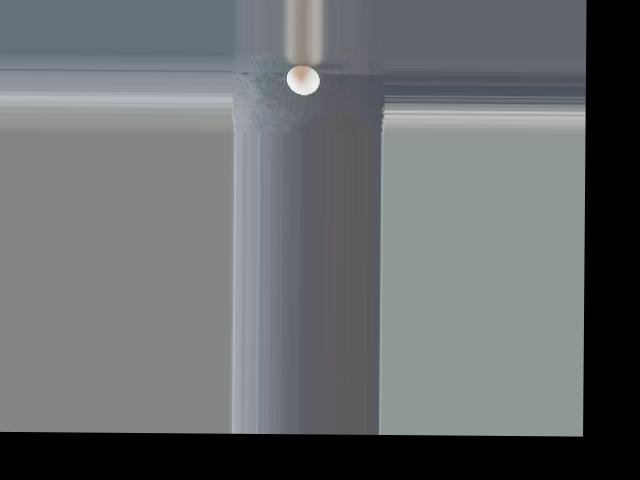egg: (285, 65, 319, 95)
